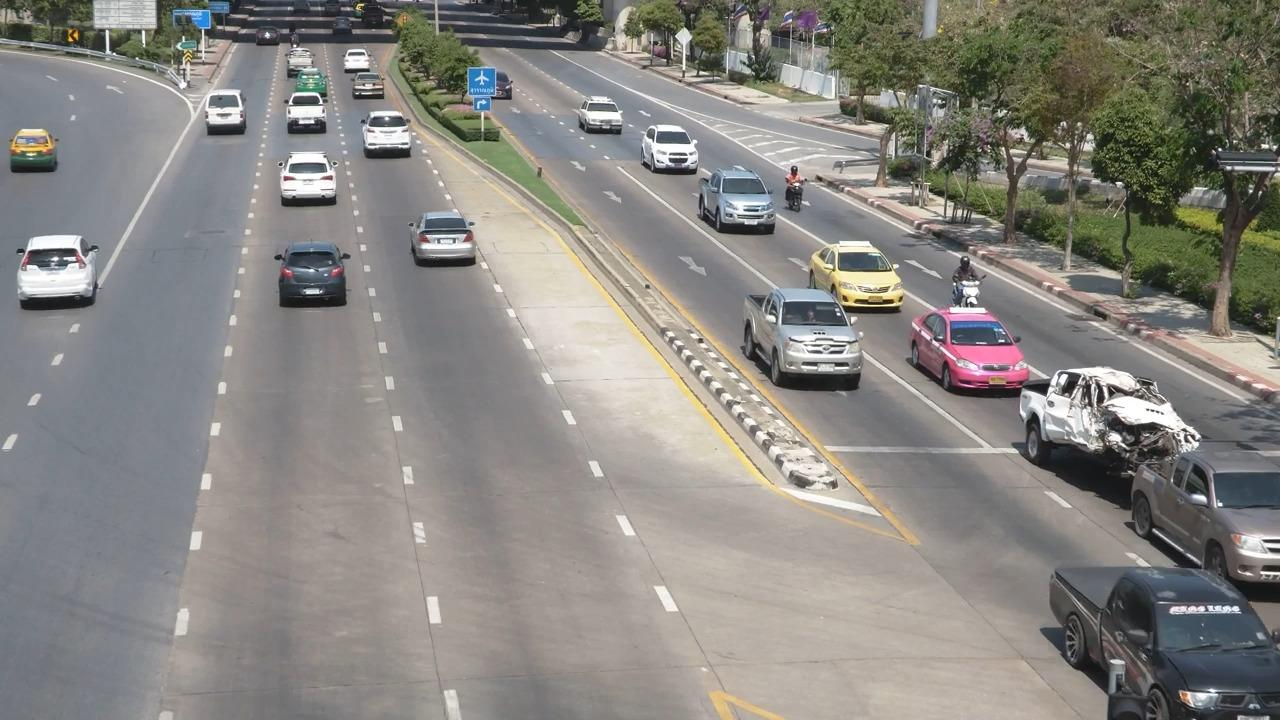CAR: (1035, 542, 1280, 720), (1120, 430, 1280, 588), (733, 276, 870, 394), (906, 299, 1028, 393), (10, 225, 105, 314), (806, 232, 909, 311), (270, 233, 357, 314), (696, 160, 781, 232), (403, 200, 484, 269), (276, 143, 348, 209), (637, 117, 704, 173), (359, 106, 425, 159), (6, 119, 63, 178), (203, 83, 253, 135), (575, 90, 627, 135), (283, 90, 333, 135), (352, 69, 390, 104), (295, 66, 330, 94), (285, 46, 315, 74), (340, 49, 373, 74)
MOTOR: (945, 246, 988, 316), (780, 156, 814, 221)
